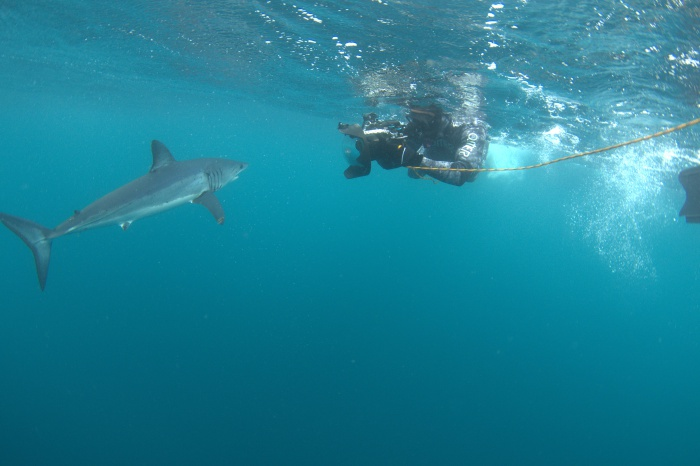Mako: (1, 133, 254, 296)
